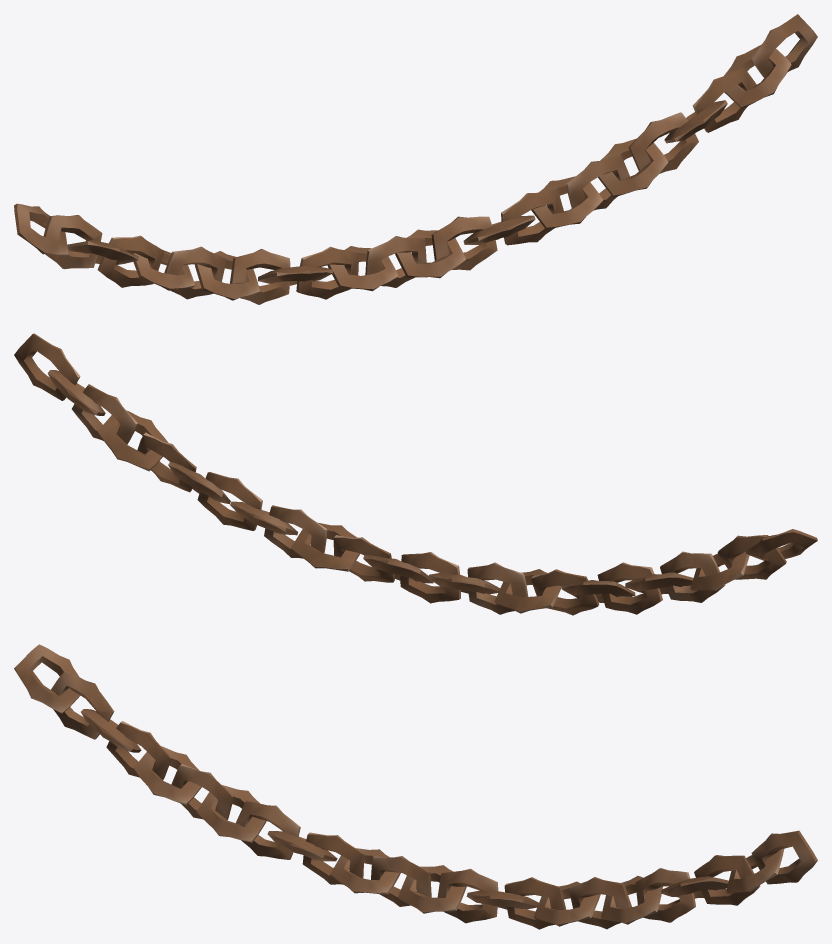
The model's file is SM_Potion_Props_Chain_B_02.fbx.
3 views of the same model, one above another, from view 1: azimuth 30°, elevation 25°; view 2: azimuth 150°, elevation 25°; view 3: azimuth 330°, elevation 25° (orthographic).
Parts seen in each view (by area): view 1: SM_Potion_Props_Chain_B_02_LOD0; view 2: SM_Potion_Props_Chain_B_02_LOD0; view 3: SM_Potion_Props_Chain_B_02_LOD0.
Part boxes in pixels (x1=…): SM_Potion_Props_Chain_B_02_LOD0: x1=14, y1=14, x2=817, y2=304; SM_Potion_Props_Chain_B_02_LOD0: x1=14, y1=333, x2=817, y2=615; SM_Potion_Props_Chain_B_02_LOD0: x1=14, y1=644, x2=817, y2=929.
Size of what is drawn, in the model's own units: 184 by 38.04 by 9.99.
